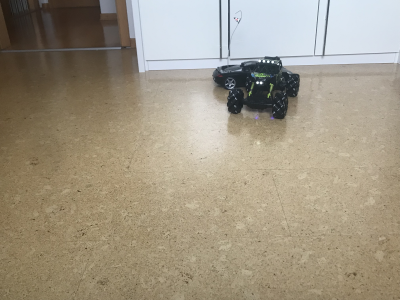remote control car: (225, 54, 301, 121)
